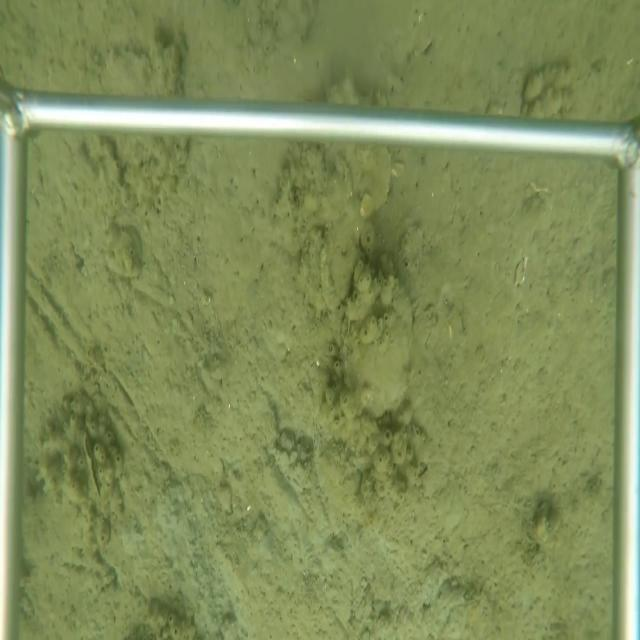Oyster-Closed: (79, 425, 102, 503)
Oyster-Indeterminate: (334, 275, 418, 426), (343, 143, 395, 222)
